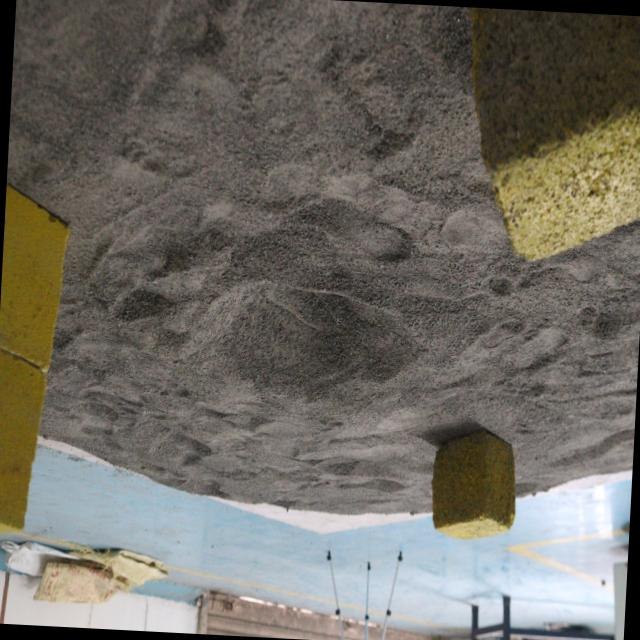box: (449, 7, 640, 268), (424, 415, 526, 548)
crater: (180, 264, 426, 409)
